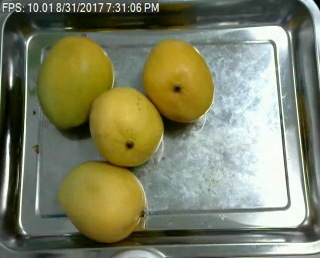Mango: (36, 36, 114, 127), (59, 162, 146, 243), (89, 87, 163, 166), (142, 40, 213, 122)
